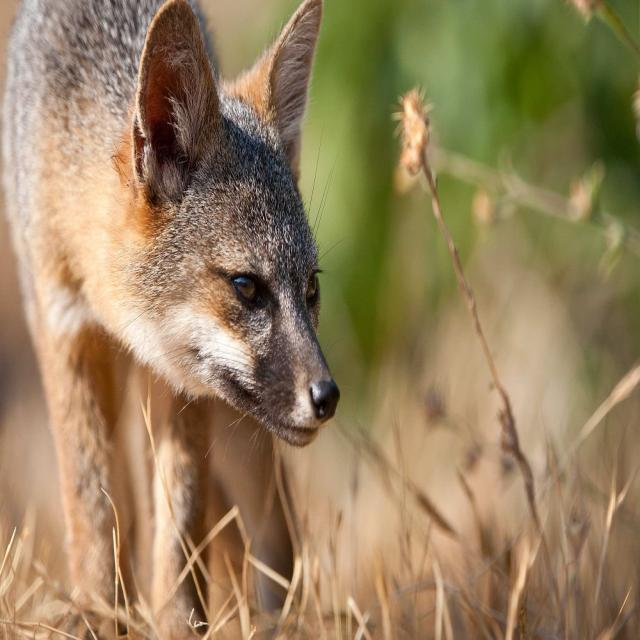fox: (0, 1, 342, 638)
